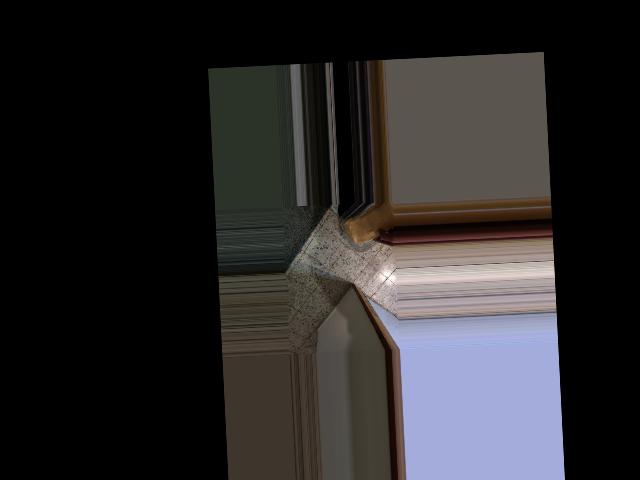cheese: (339, 200, 396, 252)
